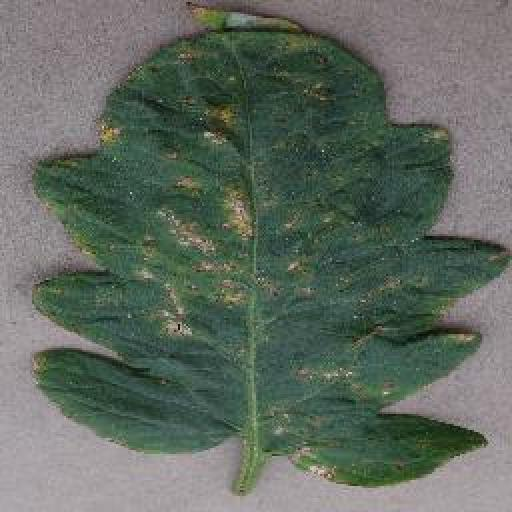Bacterial Spot: (31, 0, 509, 484)
